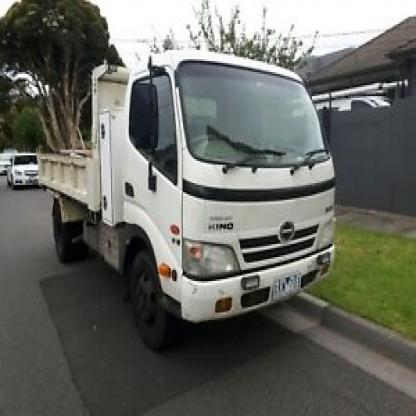dump_truck: (33, 41, 344, 366)
